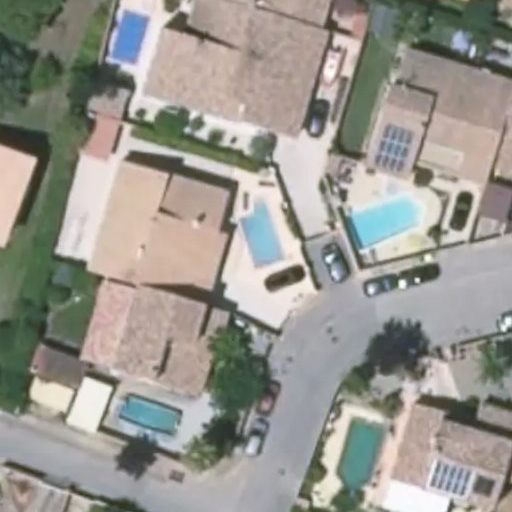pool: (344, 192, 427, 250), (337, 419, 384, 503), (242, 198, 287, 268), (118, 395, 183, 438), (109, 13, 149, 67)
